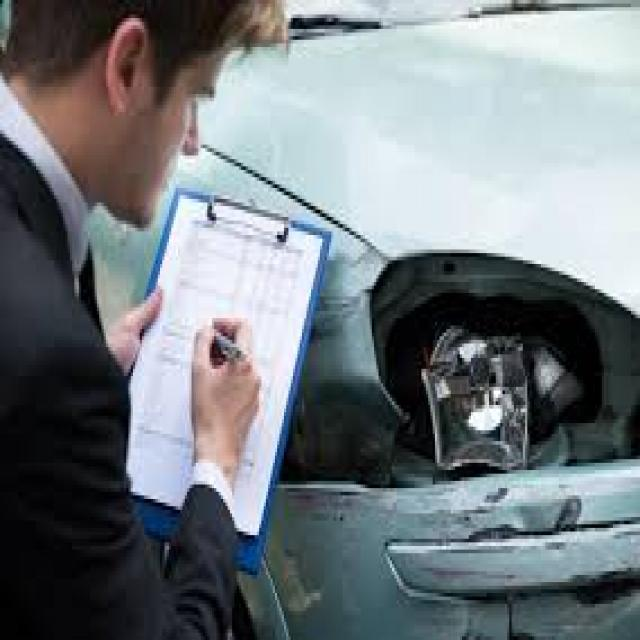moderate: (346, 218, 620, 640)
